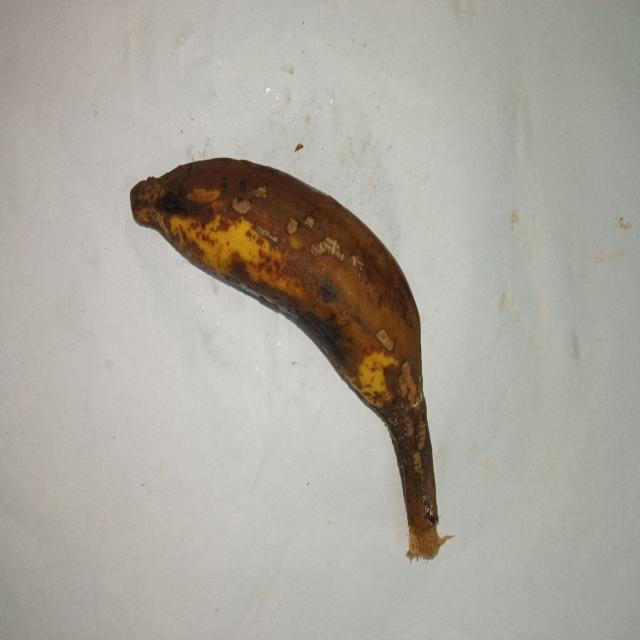rotten_banana: (130, 158, 439, 561)
